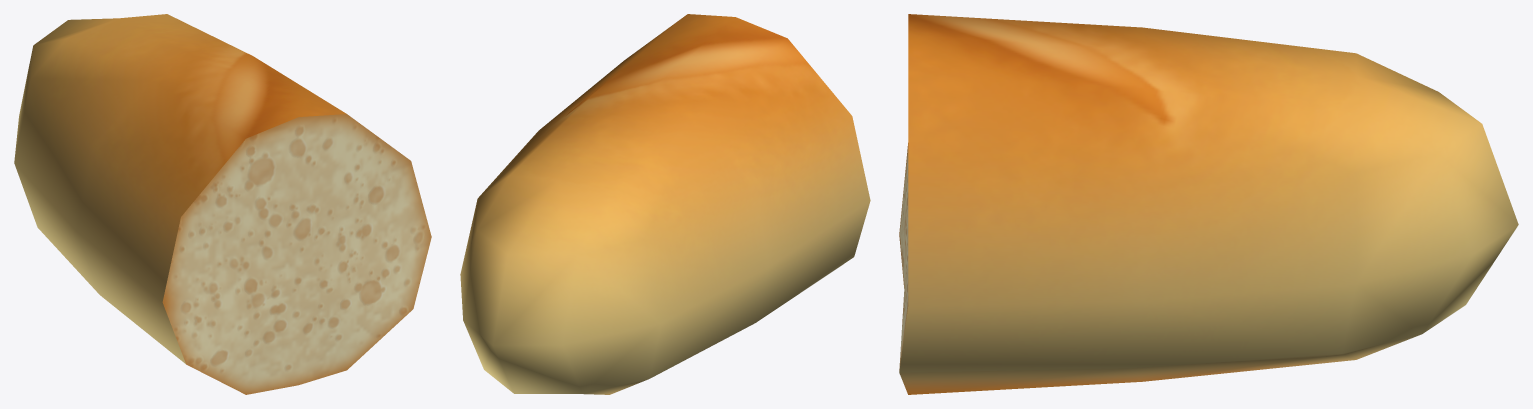
Rendered from Baguette_01_End.fbx.
3 renders of one model, left to right at view 1: azimuth 30°, elevation 25°; view 2: azimuth 150°, elevation 25°; view 3: azimuth 270°, elevation 25°, orthographic. The views are drawn at different scales.
Visible parts, largest first — view 1: Baguette_01_End; view 2: Baguette_01_End; view 3: Baguette_01_End.
Part boxes in pixels (x1,y1,x2,y2): Baguette_01_End: (14, 14, 431, 394); Baguette_01_End: (460, 14, 870, 394); Baguette_01_End: (899, 14, 1518, 394).
Size of the model in its own units: 19.32 by 18.39 by 30.88.
